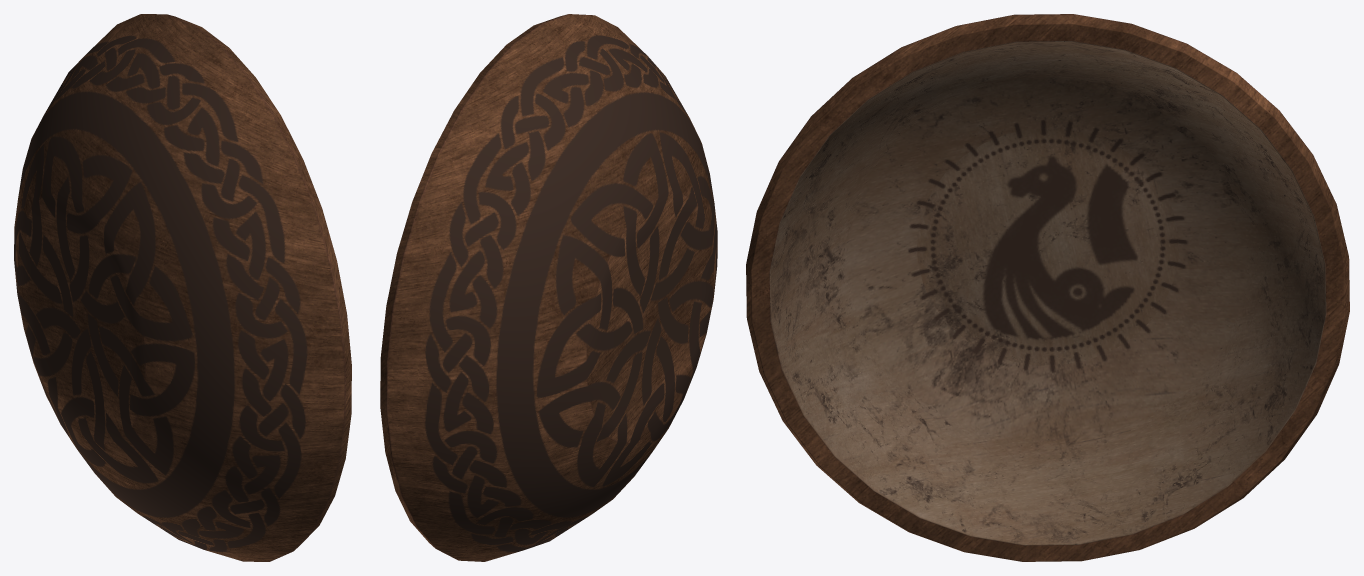
File: 5VikingsObjectBowl.glb
The picture shows the model from 3 angles, left to right: view 1: azimuth 30°, elevation 25°; view 2: azimuth 150°, elevation 25°; view 3: azimuth 270°, elevation 25°; orthographic projection. The views are drawn at different scales.
Visible parts, largest first — view 1: VikingsObjectsBowl; view 2: VikingsObjectsBowl; view 3: VikingsObjectsBowl.
Part boxes in pixels (left/top/right/bottom): VikingsObjectsBowl: left=14, top=14, right=351, bottom=561; VikingsObjectsBowl: left=380, top=14, right=717, bottom=561; VikingsObjectsBowl: left=746, top=14, right=1349, bottom=561.
Size of the model in its own units: 0.2431 by 0.8789 by 0.8789.
Materials: 3 (3 with a texture image).
